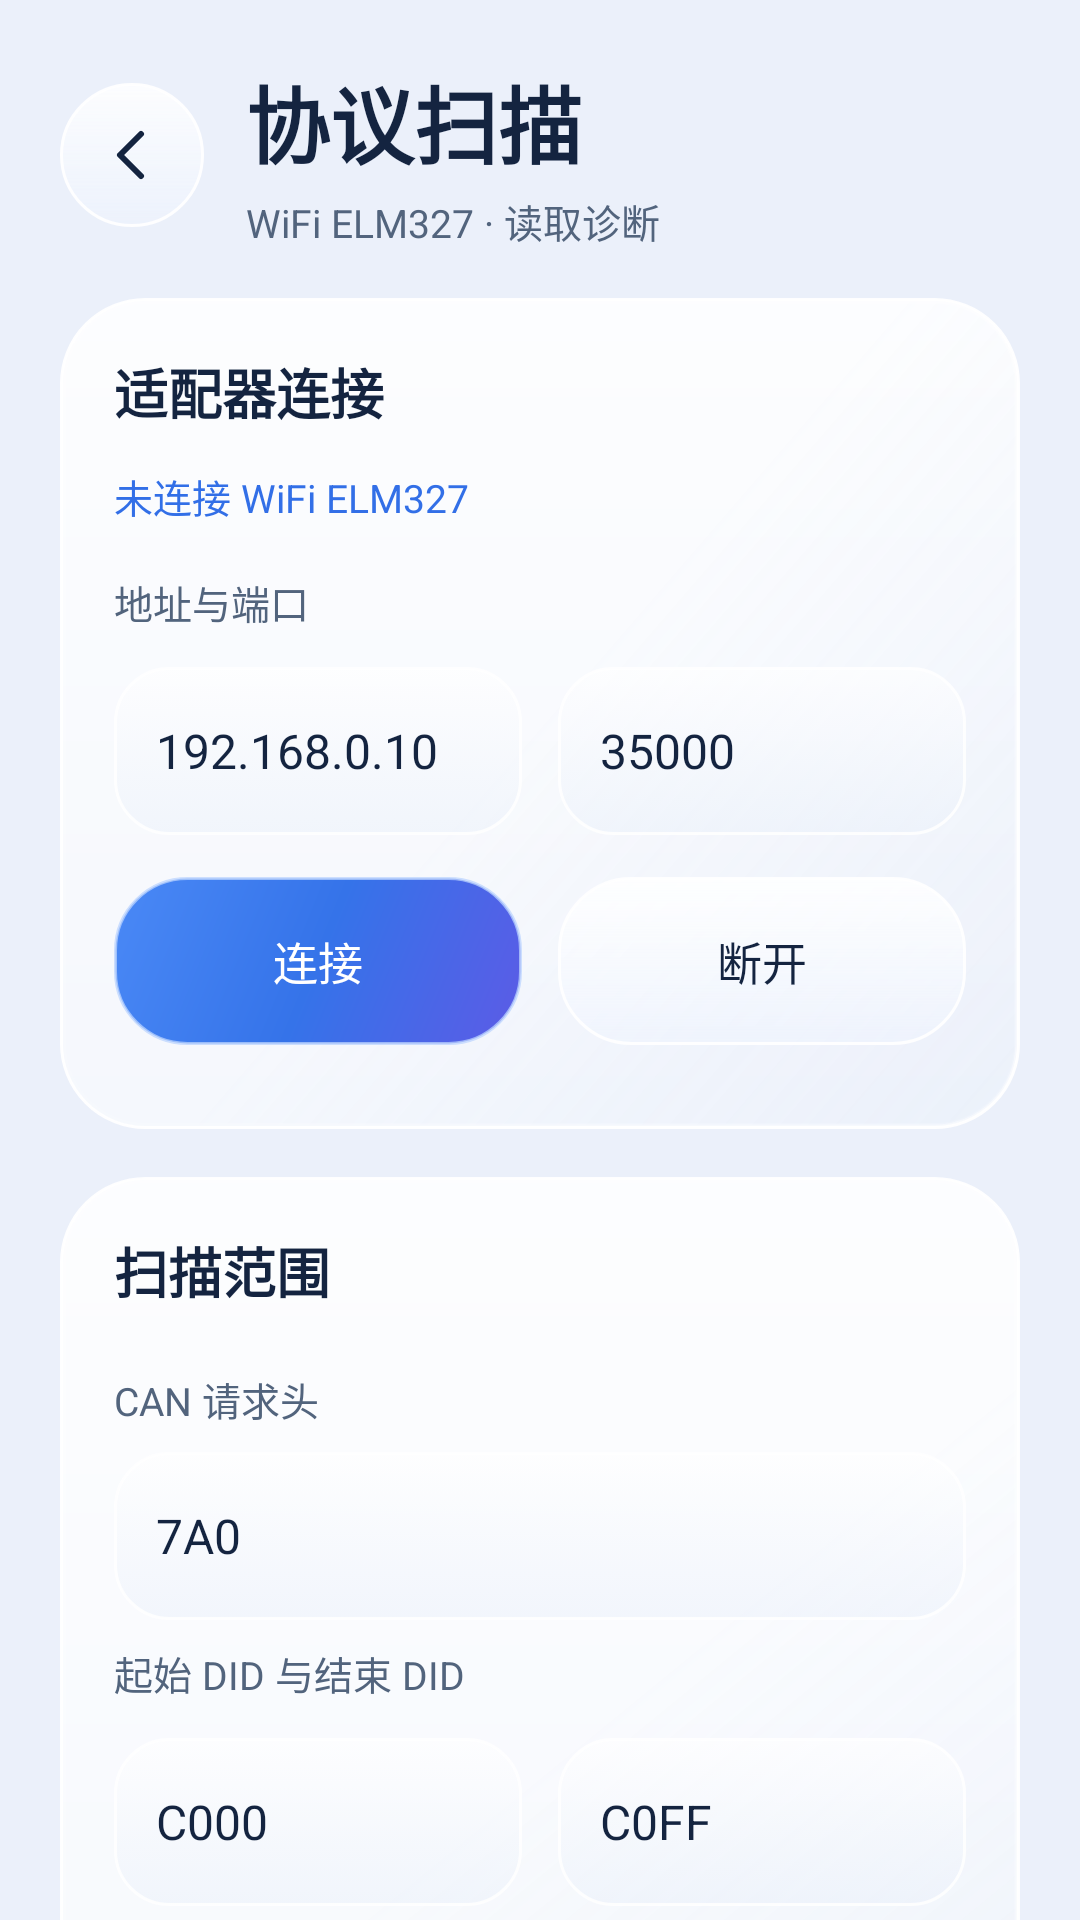

Icon bounding boxes for this 1080px x 1920px phone screenshot, format bbox(x1, y1, x2, y2):
返回上一页: bbox(117, 131, 144, 179)
